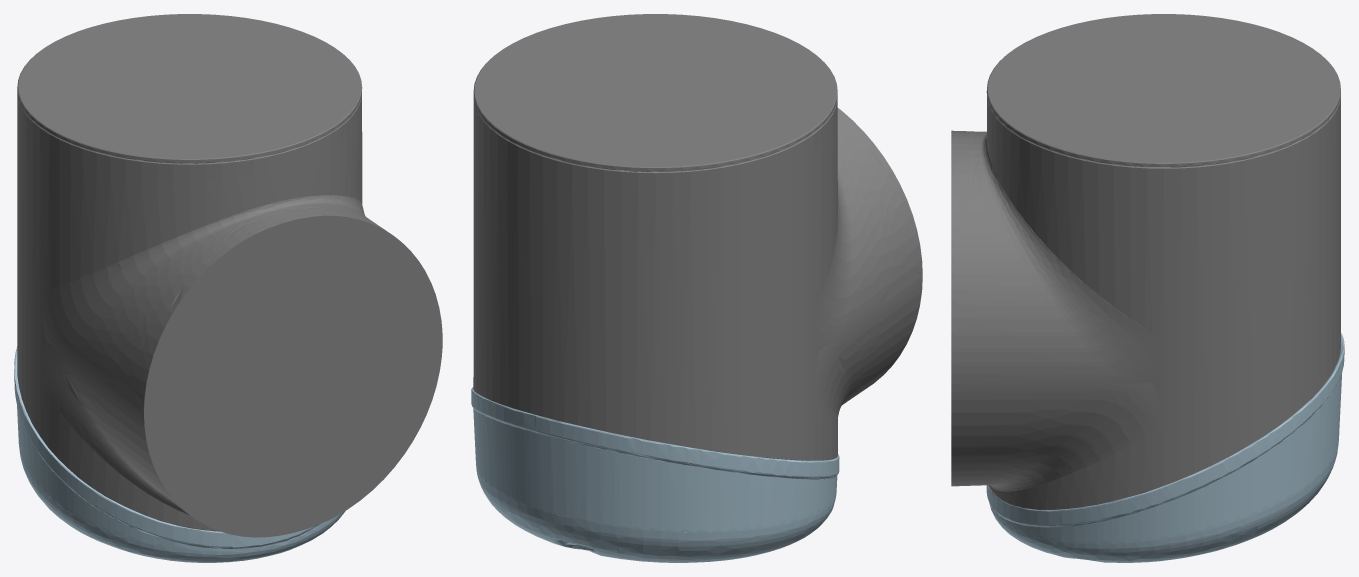
The model's file is Wrist1.dae.
3 renders of one model, left to right at view 1: azimuth 30°, elevation 25°; view 2: azimuth 150°, elevation 25°; view 3: azimuth 270°, elevation 25°, orthographic. The views are drawn at different scales.
Parts seen in each view (by area): view 1: node-shape0-name, node-shape1-name; view 2: node-shape0-name, node-shape1-name; view 3: node-shape0-name, node-shape1-name.
Boxes of the visible parts, x1,y1,x2,y2 form: node-shape0-name: (17,14,442,537); node-shape1-name: (14,346,345,562); node-shape0-name: (473,14,922,460); node-shape1-name: (471,387,839,562); node-shape0-name: (951,14,1340,509); node-shape1-name: (986,333,1344,562).
Size of the model in its own units: 0.091 by 0.0999 by 0.1188.
